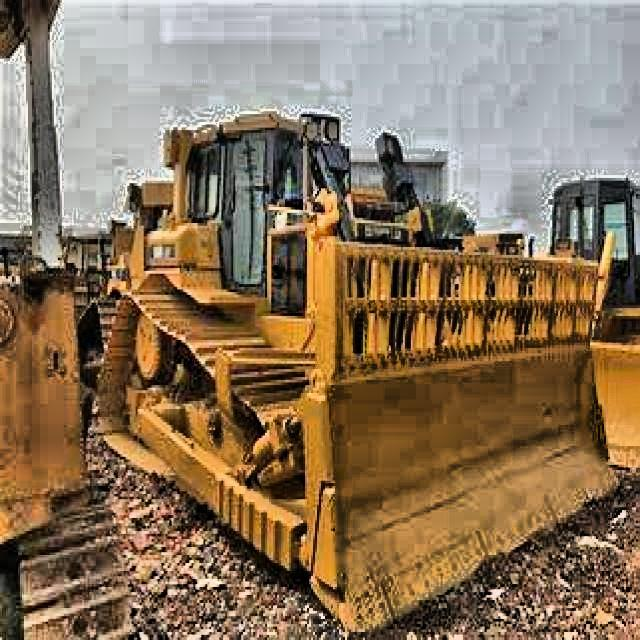bull_dozer/loader/grader: (80, 90, 622, 624)
